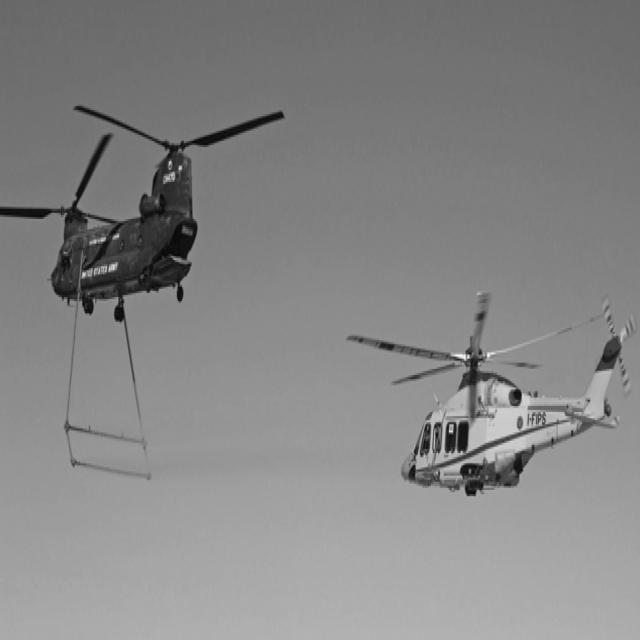helicopter: (1, 100, 290, 310), (348, 290, 639, 495)
